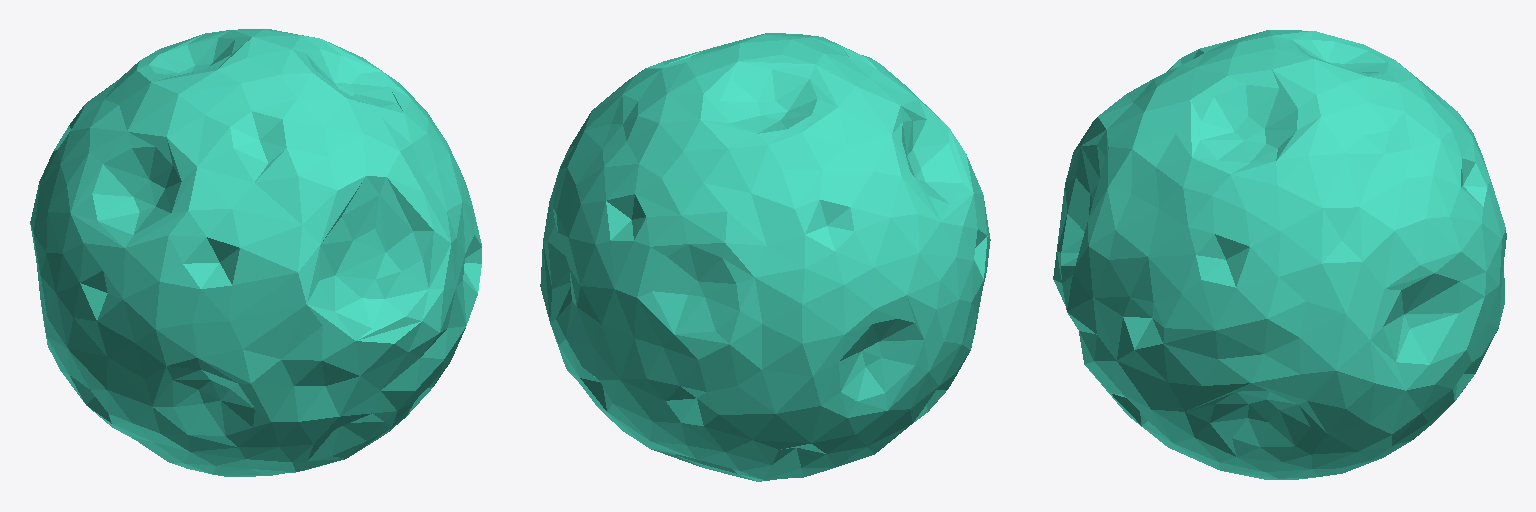
The model's file is Moon.obj.
The picture shows the model from 3 angles: view 1: azimuth 30°, elevation 25°; view 2: azimuth 150°, elevation 25°; view 3: azimuth 270°, elevation 25°; orthographic projection.
Visible parts, largest first — view 1: Moon; view 2: Moon; view 3: Moon.
Boxes of the visible parts, x1,y1,x2,y2 form: Moon: [30, 29, 481, 476]; Moon: [540, 33, 990, 481]; Moon: [1053, 30, 1506, 479].
Bounding box in the file's own units: 33.32 × 33.16 × 33.47.